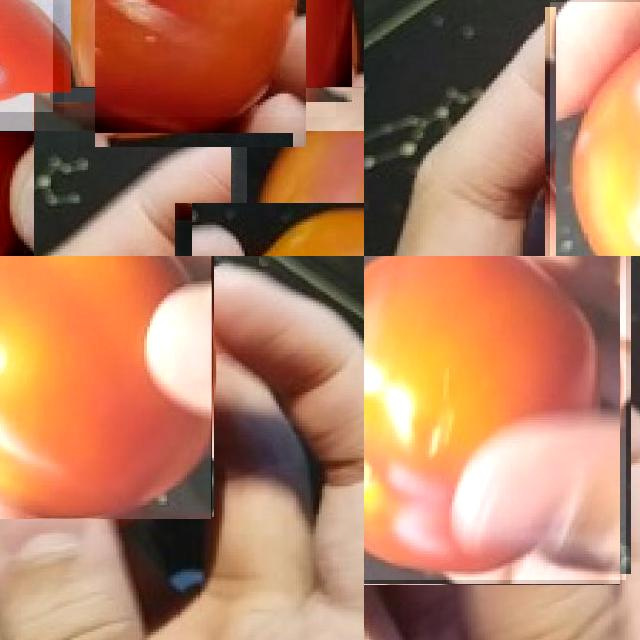0: (210, 167, 364, 256)
1: (64, 0, 336, 117)
Fresh Tomato: (364, 256, 625, 579), (549, 2, 640, 256)
